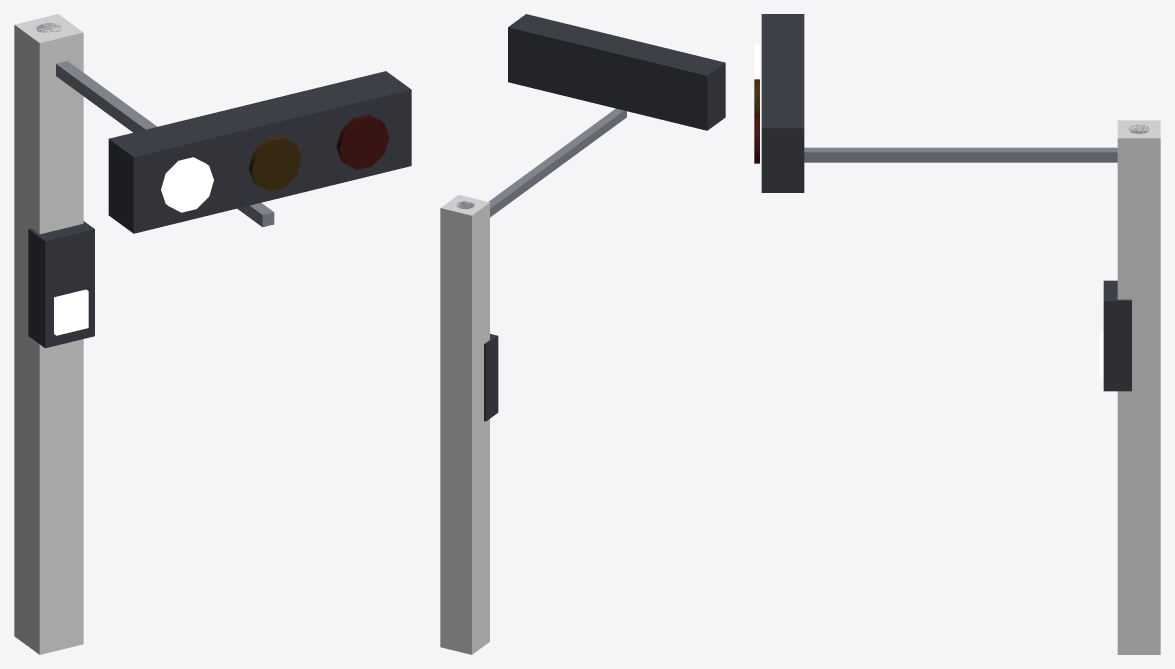
The model's file is semaforo.glb.
3 renders of one model, left to right at view 1: azimuth 30°, elevation 25°; view 2: azimuth 150°, elevation 25°; view 3: azimuth 270°, elevation 25°, orthographic. The views are drawn at different scales.
Visible parts, largest first — view 1: semaforo_Malla, COL_0; view 2: COL_0, semaforo_Malla; view 3: COL_0, semaforo_Malla.
Part boxes in pixels (left/top/right/bottom): semaforo_Malla: left=28, top=23, right=411, bottom=348; COL_0: left=14, top=14, right=83, bottom=654; COL_0: left=440, top=195, right=489, bottom=654; semaforo_Malla: left=456, top=14, right=725, bottom=421; COL_0: left=1117, top=120, right=1160, bottom=654; semaforo_Malla: left=754, top=14, right=1149, bottom=391.
Bounding box in the file's own units: 1.9 × 4.45 × 2.85.
